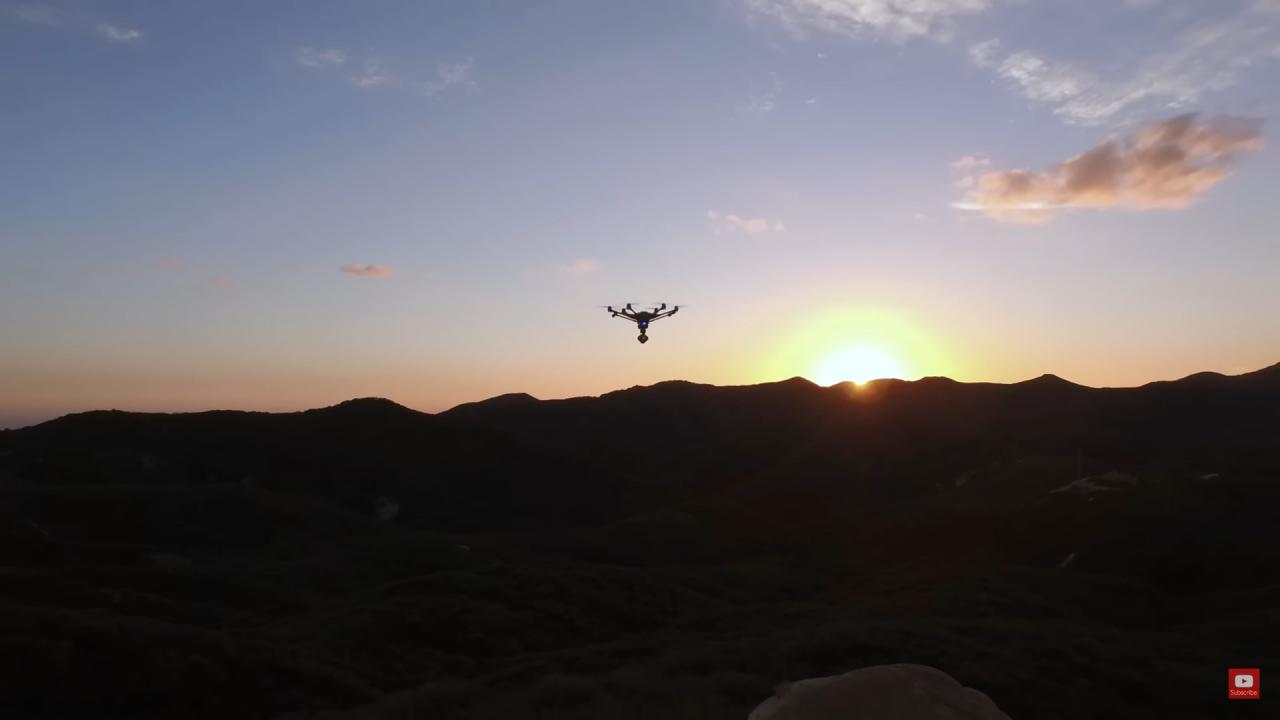Drone: (594, 295, 695, 351)
